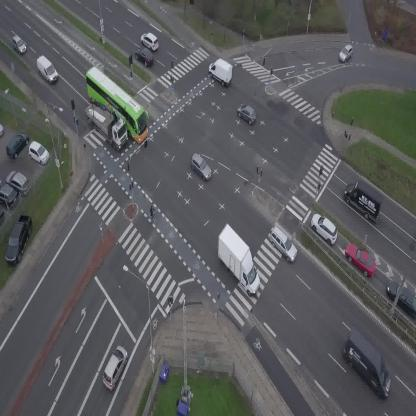bicycle: (147, 205, 158, 223)
bus: (76, 61, 160, 146)
car: (340, 237, 382, 281), (97, 343, 132, 391), (264, 224, 302, 265), (306, 209, 343, 247), (185, 152, 217, 182), (234, 100, 261, 127), (131, 44, 157, 70), (137, 29, 163, 54), (336, 42, 357, 65), (8, 34, 28, 57)
lorry: (205, 221, 274, 300), (331, 328, 404, 402), (79, 95, 136, 152), (336, 176, 391, 226), (204, 54, 238, 88), (32, 54, 62, 84)
